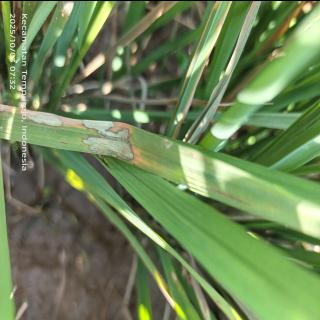Blast: (80, 131, 138, 162), (79, 116, 130, 140), (27, 107, 65, 130)
